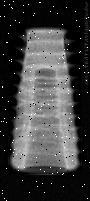Novodent: (9, 25, 81, 174)
